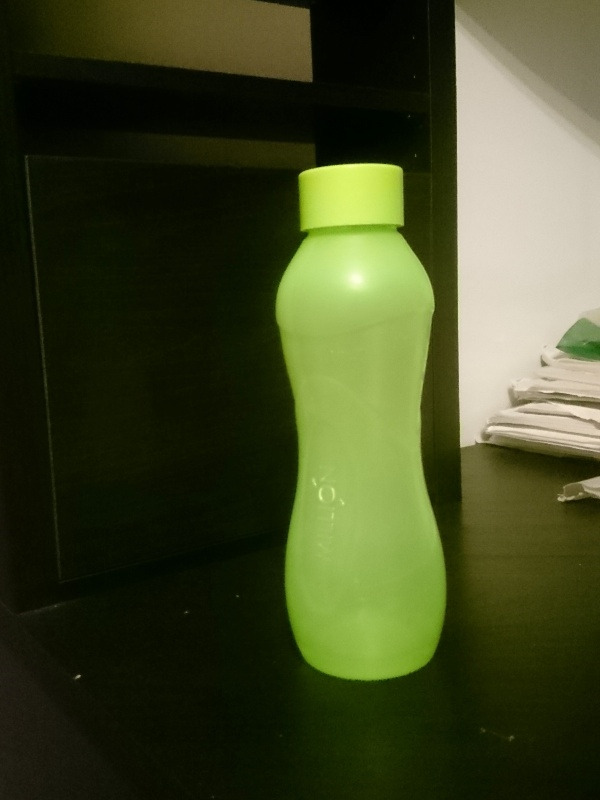my bottle: (275, 165, 443, 684)
